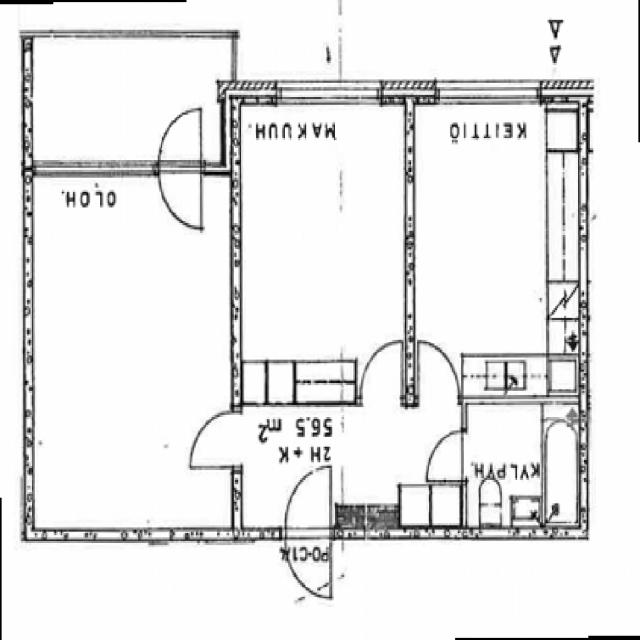door: (285, 469, 329, 539), (285, 527, 329, 597), (189, 412, 241, 468), (158, 26, 200, 93), (158, 81, 200, 148), (418, 343, 460, 403), (361, 344, 402, 403), (423, 430, 467, 480)
